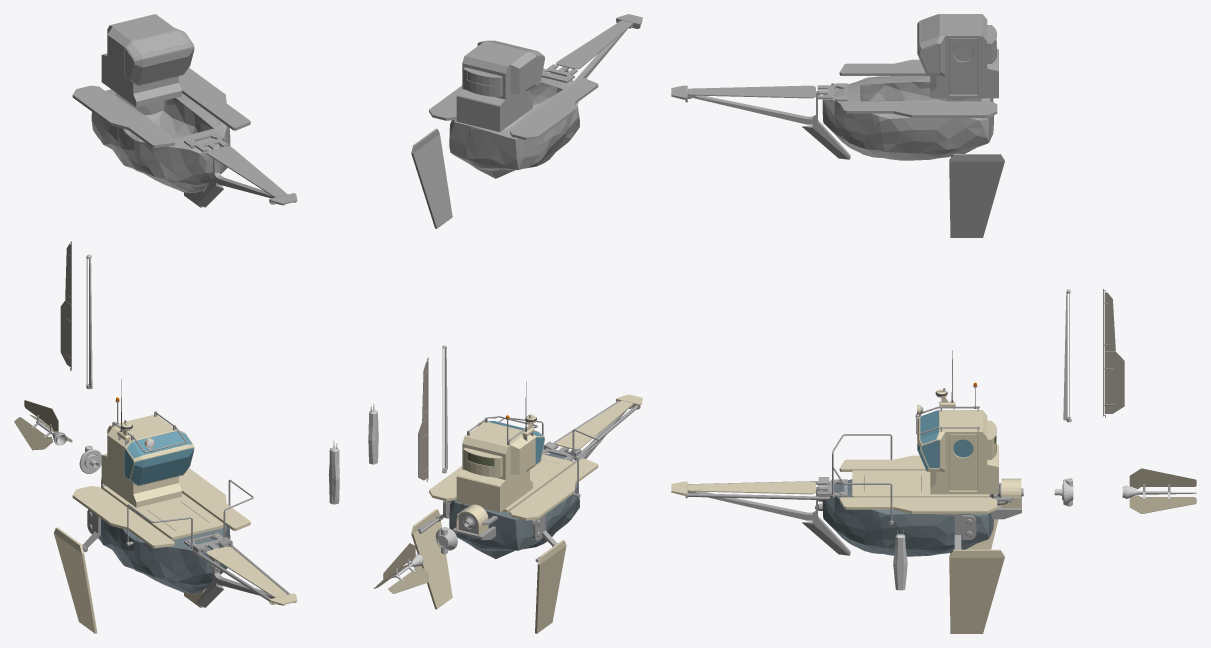
Rendered from Rotorfin Zerzek.dae.
The picture shows the model from 3 angles, left to right: view 1: azimuth 30°, elevation 25°; view 2: azimuth 150°, elevation 25°; view 3: azimuth 270°, elevation 25°; orthographic projection. The views are drawn at different scales.
Visible parts, largest first — view 1: Zerzek1Hull, Zerzek1HullCol1, Zerzek1HullCol2, Zerzek1HullCol4, Zerzek1StabProp, Zerzek1Fin, Zerzek1FinBase, PiriComparison, Zerzek1Rotor; view 2: Zerzek1Hull, Zerzek1HullCol1, Zerzek1HullCol2, Zerzek1HullCol3, Zerzek1HullCol4, Zerzek1StabProp, Zerzek1Fin, Zerzek1FinBase, PiriComparison, Zerzek1Rotor; view 3: Zerzek1Hull, Zerzek1HullCol1, Zerzek1HullCol2, Zerzek1HullCol3, Zerzek1HullCol4, Zerzek1StabProp, Zerzek1Fin.
Boxes of the visible parts, x1,y1,x2,y2 form: Zerzek1Hull: (54, 379, 297, 633); Zerzek1HullCol1: (72, 68, 250, 192); Zerzek1HullCol2: (101, 14, 194, 107); Zerzek1HullCol4: (184, 132, 297, 207); Zerzek1StabProp: (14, 400, 72, 450); Zerzek1Fin: (60, 241, 71, 371); Zerzek1FinBase: (86, 254, 92, 389); PiriComparison: (328, 441, 339, 504); Zerzek1Rotor: (79, 445, 101, 473); Zerzek1Hull: (411, 381, 642, 633); Zerzek1HullCol1: (429, 73, 598, 178); Zerzek1HullCol2: (456, 40, 544, 131); Zerzek1HullCol3: (411, 128, 452, 228); Zerzek1HullCol4: (541, 14, 642, 83); Zerzek1StabProp: (373, 543, 428, 593); Zerzek1Fin: (418, 357, 428, 481); Zerzek1FinBase: (442, 345, 447, 473); PiriComparison: (368, 404, 378, 464); Zerzek1Rotor: (435, 527, 457, 554); Zerzek1Hull: (671, 350, 1023, 633); Zerzek1HullCol1: (822, 59, 997, 160); Zerzek1HullCol2: (917, 14, 998, 98); Zerzek1HullCol3: (949, 154, 1004, 237); Zerzek1HullCol4: (671, 83, 850, 159); Zerzek1StabProp: (1122, 468, 1196, 513); Zerzek1Fin: (1103, 289, 1124, 417).
Bounding box in the file's own units: 12.1 × 24.04 × 29.45.
